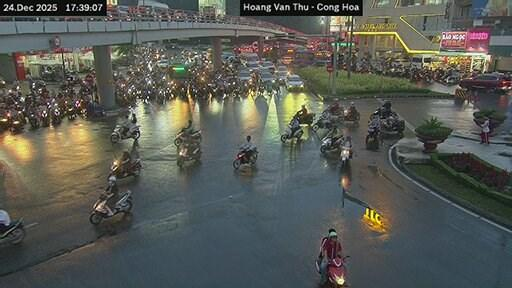motorbike: (89, 189, 131, 224), (108, 158, 140, 178), (327, 256, 348, 286), (0, 219, 24, 243), (176, 144, 201, 166), (109, 125, 137, 142), (173, 129, 201, 145), (233, 148, 256, 167), (380, 116, 405, 133), (280, 124, 303, 142), (322, 135, 338, 153), (312, 117, 333, 130), (365, 126, 377, 148), (339, 108, 358, 121), (368, 107, 384, 120), (339, 146, 349, 166), (39, 108, 50, 126), (297, 112, 313, 124), (9, 117, 22, 129), (29, 111, 38, 127), (51, 108, 60, 124), (0, 115, 9, 130), (320, 108, 335, 117), (335, 108, 344, 115), (316, 260, 320, 271), (388, 112, 396, 117)
